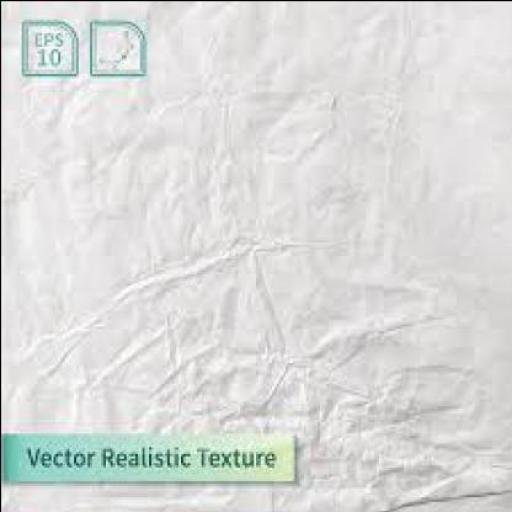paper: (1, 1, 510, 510), (1, 81, 510, 431)
